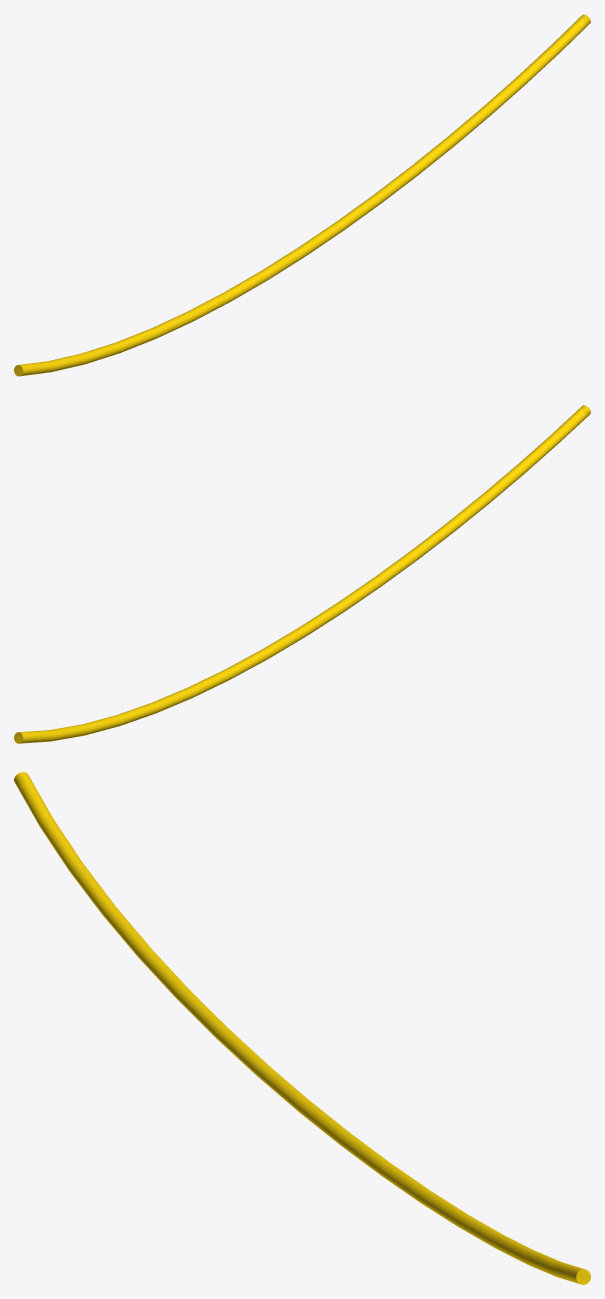
The model's file is Event_420094457_track_39.fbx.
The picture shows the model from 3 angles, top to bottom: view 1: azimuth 30°, elevation 25°; view 2: azimuth 210°, elevation 25°; view 3: azimuth 270°, elevation 25°; orthographic projection. The views are drawn at different scales.
Visible parts, largest first — view 1: Model; view 2: Model; view 3: Model.
Part boxes in pixels (x1,y1,x2,y2): Model: (14, 14, 590, 376); Model: (14, 405, 590, 743); Model: (14, 772, 590, 1284).
Size of the model in its own units: 3.11 by 0.281 by 1.47.
